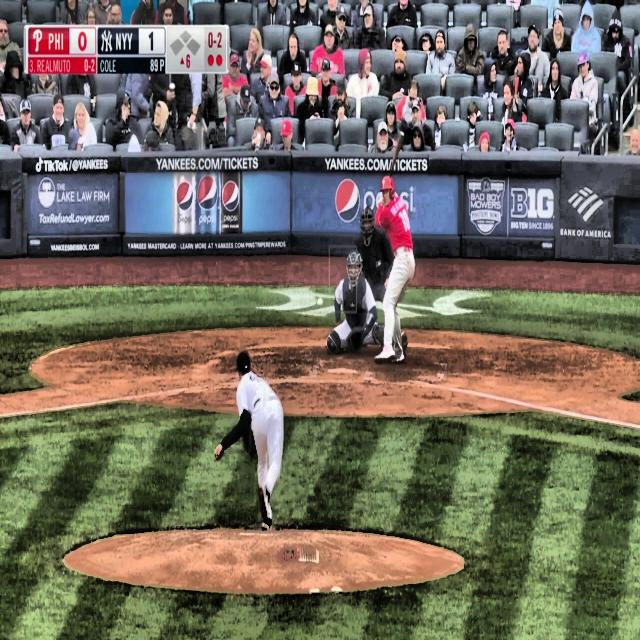baseball: (317, 298, 323, 306)
